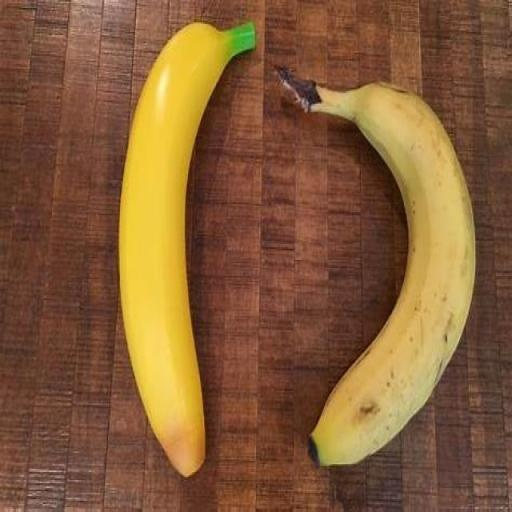fruit: (279, 68, 475, 464), (120, 24, 255, 475)
